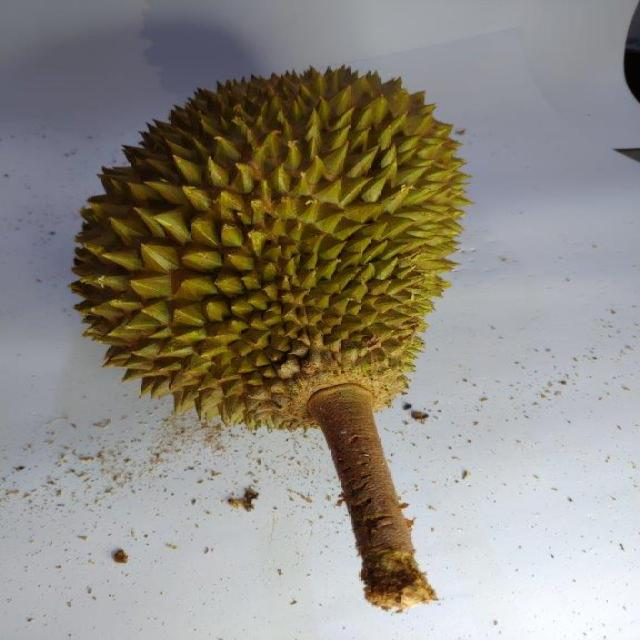mature: (69, 68, 468, 432)
